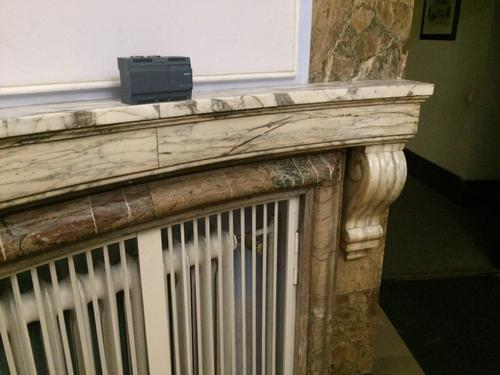iot2000: (115, 54, 193, 106)
